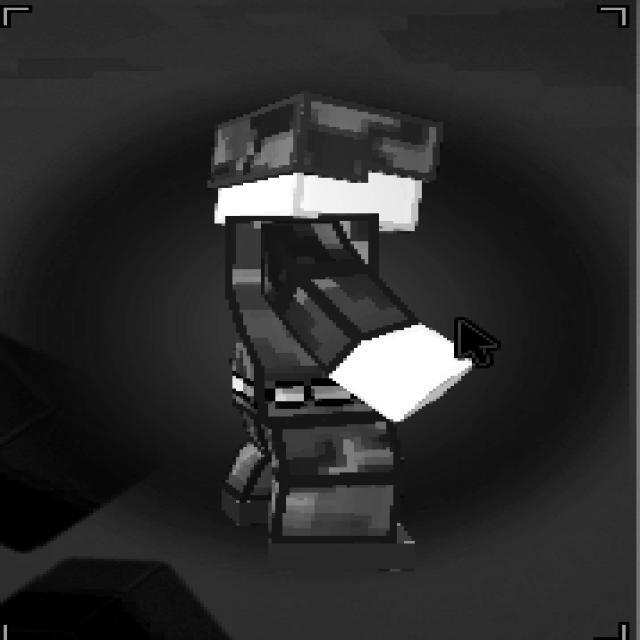Head: (204, 89, 443, 231)
Player: (204, 89, 497, 571)
